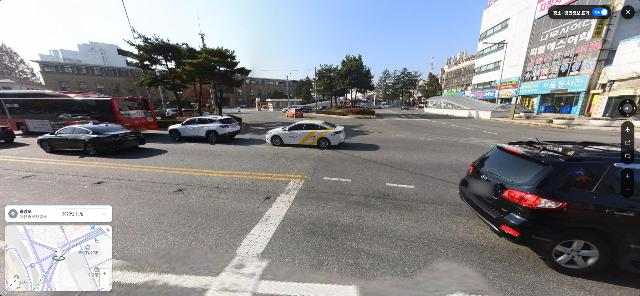other: (116, 33, 196, 120), (183, 45, 253, 116), (0, 39, 42, 87), (337, 54, 374, 107), (314, 63, 342, 109), (394, 67, 422, 102), (186, 81, 213, 109), (422, 72, 440, 106), (377, 67, 394, 101), (296, 75, 312, 105), (389, 75, 407, 101)
